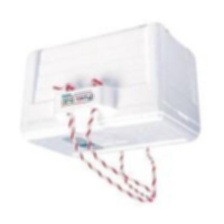foam_box: (13, 18, 208, 208)
